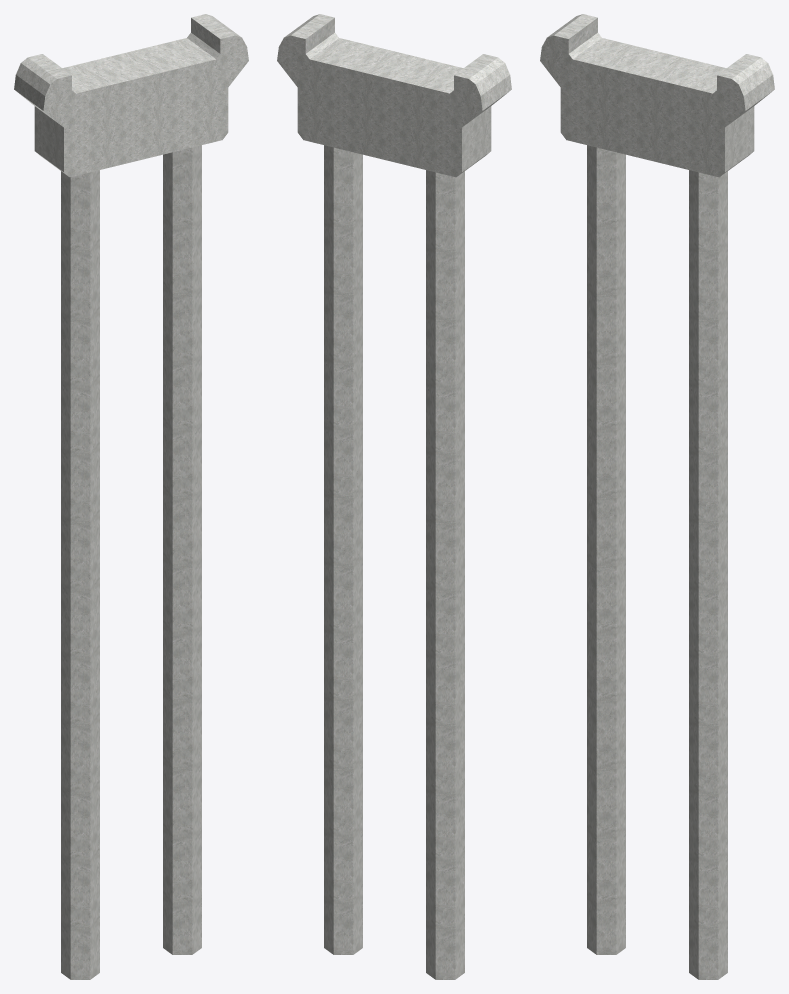
The model's file is thm_corl_imprv_bridge_insert_s01_l1.fbx.
3 views of the same model, side by side, from view 1: azimuth 30°, elevation 25°; view 2: azimuth 150°, elevation 25°; view 3: azimuth 330°, elevation 25° (orthographic).
Visible parts, largest first — view 1: mesh_node; view 2: mesh_node; view 3: mesh_node.
Part boxes in pixels (x1,y1,x2,y2): mesh_node: [14, 14, 248, 979]; mesh_node: [277, 14, 511, 979]; mesh_node: [540, 14, 774, 979].
Size of the model in its own units: 8.07 by 34.27 by 2.
1 material, 1 textured.
